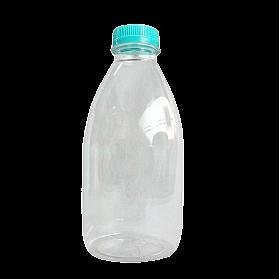Plastik: (75, 18, 188, 263)
